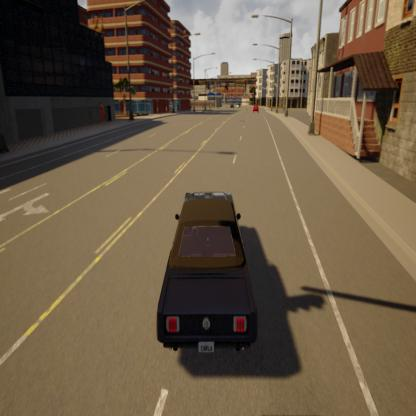Cars: (146, 181, 260, 358)
